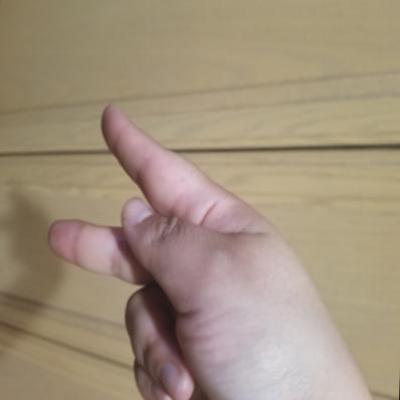hand: (37, 92, 352, 399)
